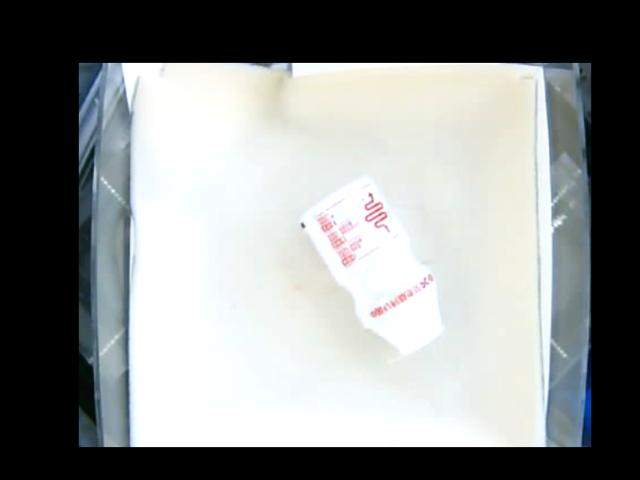Bottle: (301, 174, 443, 353)
